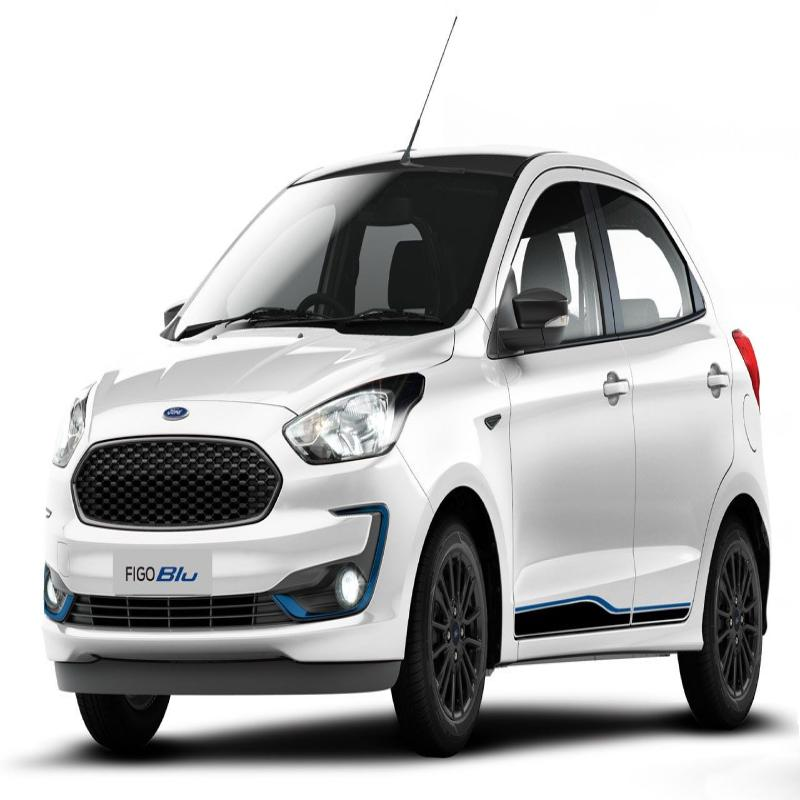car: (16, 109, 769, 745)
